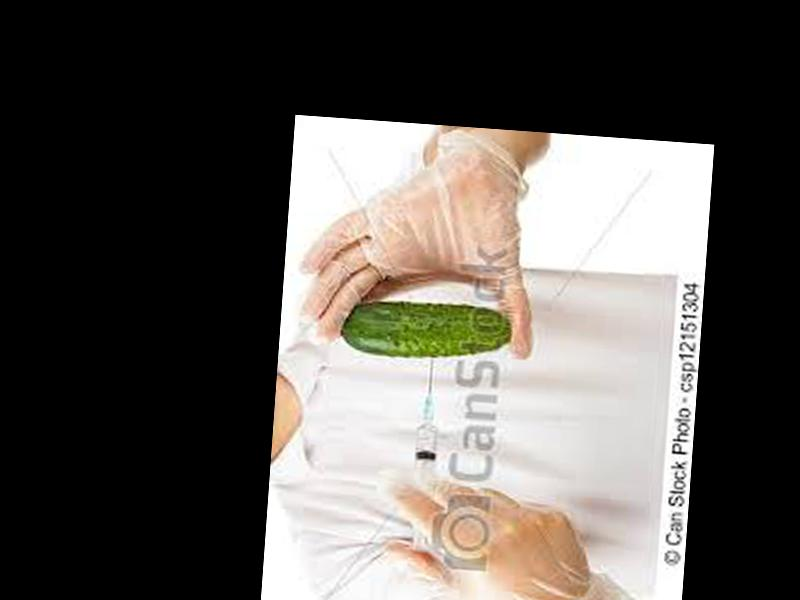Cucumber: (335, 294, 511, 362)
